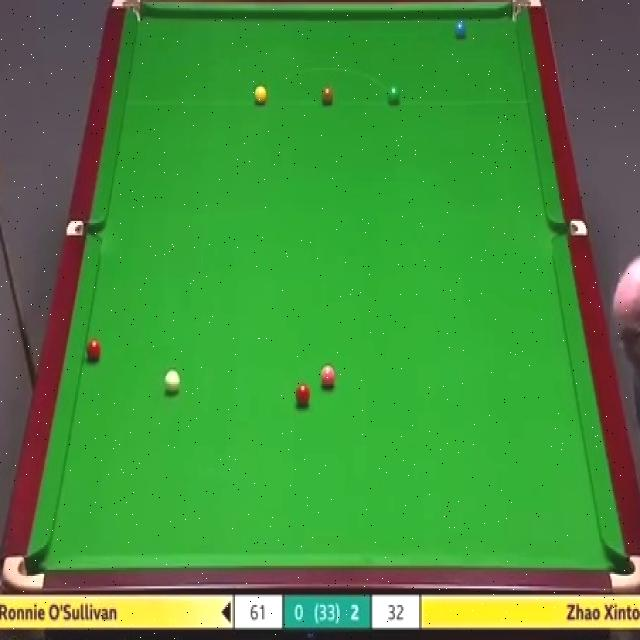blue-ball: (453, 20, 468, 40)
brown-ball: (320, 87, 334, 104)
green-ball: (387, 83, 401, 107)
pink-ball: (320, 365, 334, 389)
red-ball: (86, 338, 102, 361), (295, 382, 310, 405)
white-ball: (163, 369, 181, 393)
yellow-ball: (253, 84, 268, 105)
